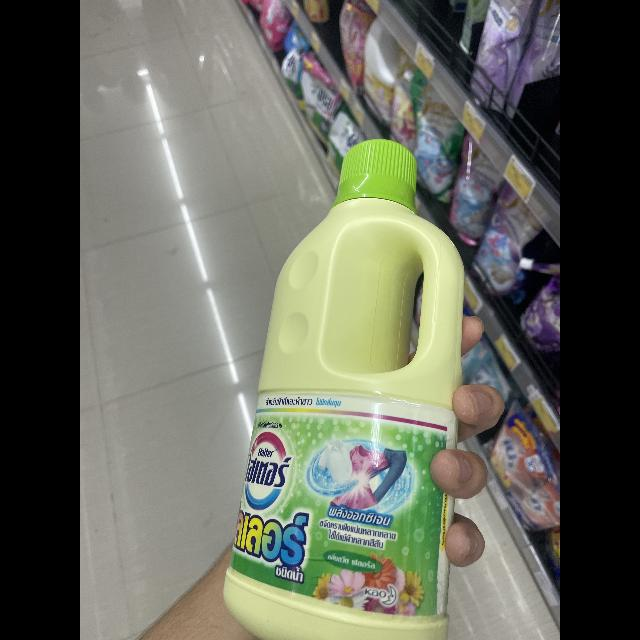chemical_plastic_bottle: (225, 128, 470, 640)
